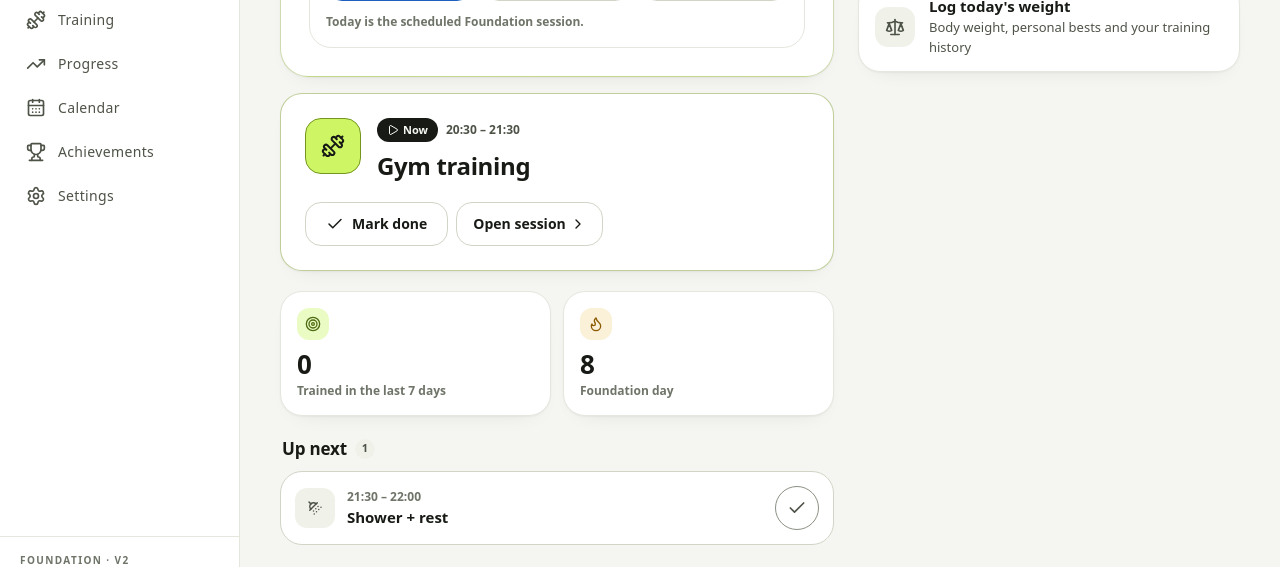
Scenario: Today — manual completion › promotes the next item once the current one is done
(page scrolled)
Click the button with aria-label "Complete Gym training": (377, 224) top-left (305, 202), bottom-right (448, 246)
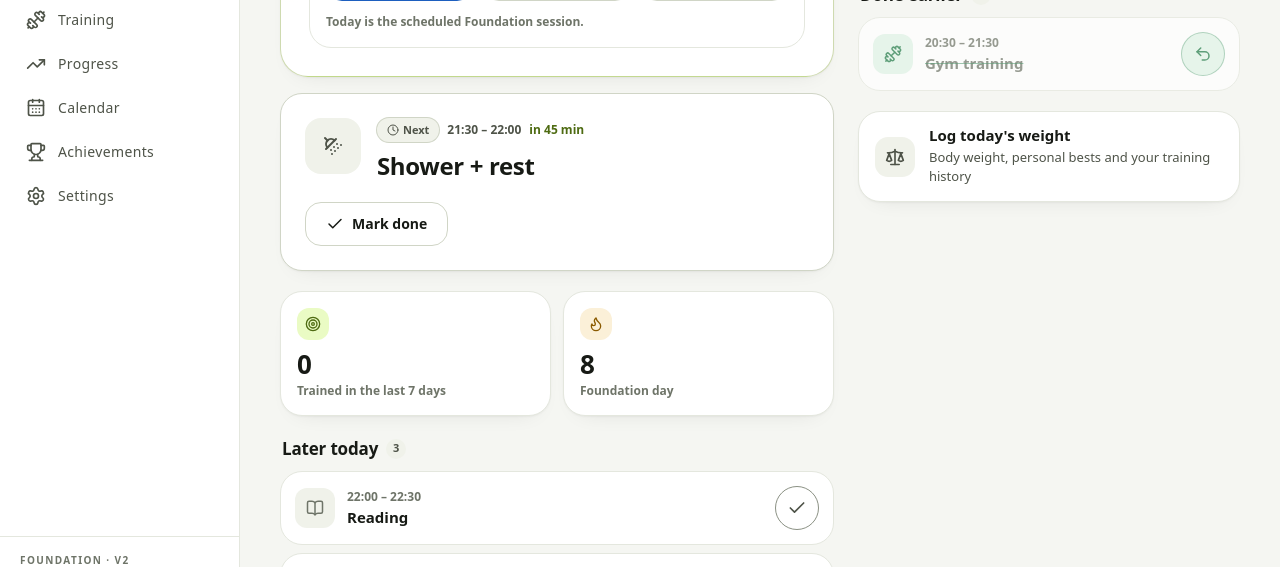
Check: the heading "Shower + rest" is shown, box top-left (377, 149), bottom-right (534, 182)
